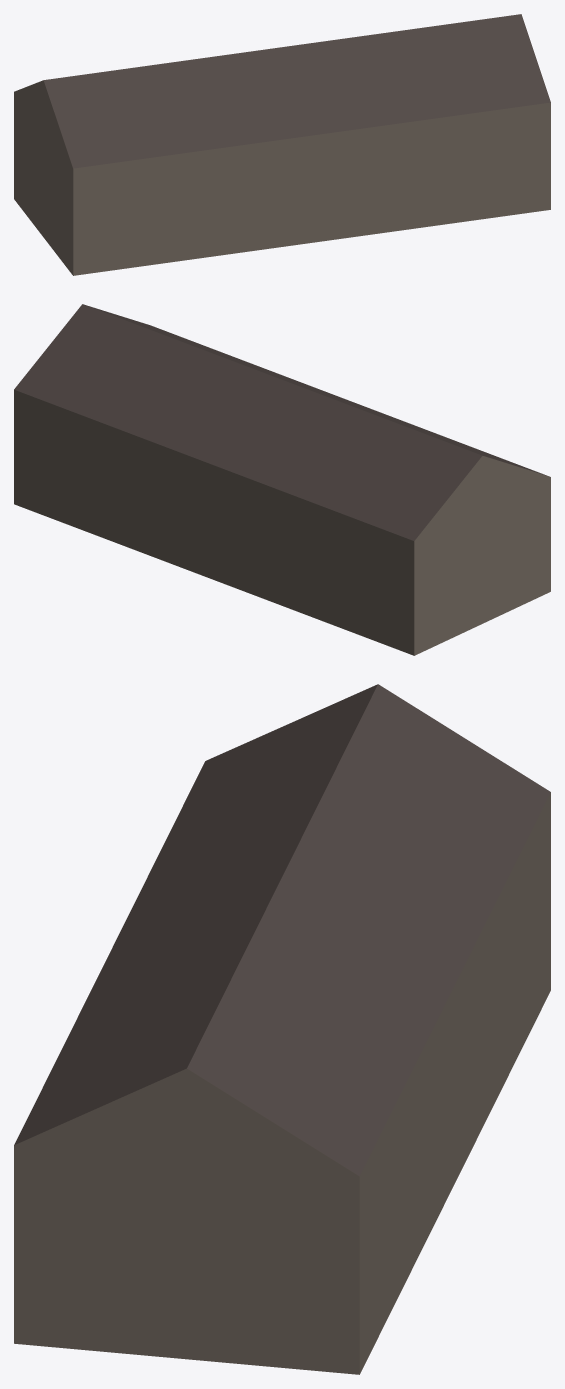
The picture shows the model from 3 angles, top to bottom: view 1: azimuth 30°, elevation 25°; view 2: azimuth 150°, elevation 25°; view 3: azimuth 270°, elevation 25°; orthographic projection. The views are drawn at different scales.
Visible parts, largest first — view 1: HP-w1318371763; view 2: HP-w1318371763; view 3: HP-w1318371763.
Part boxes in pixels (left/top/right/bottom): HP-w1318371763: left=14, top=14, right=550, bottom=275; HP-w1318371763: left=14, top=304, right=550, bottom=655; HP-w1318371763: left=14, top=684, right=550, bottom=1374.
Size of the model in its own units: 26.96 by 8.8 by 14.72.
